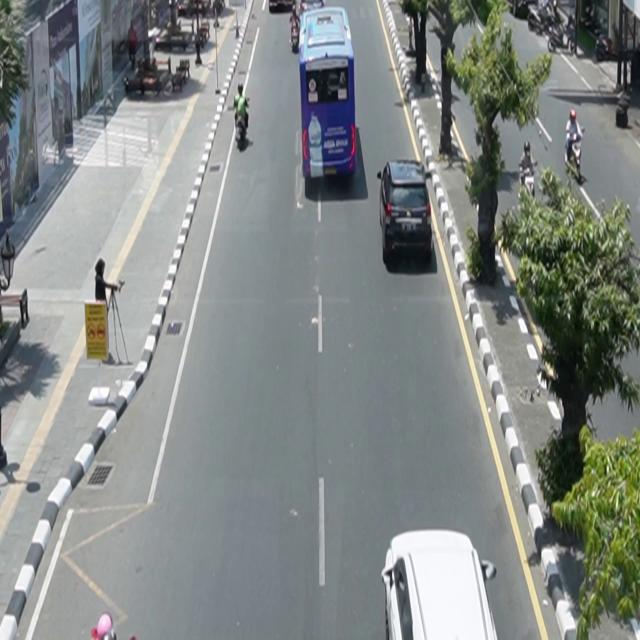bus: (299, 7, 358, 182)
car: (382, 529, 499, 640), (378, 159, 434, 265)
